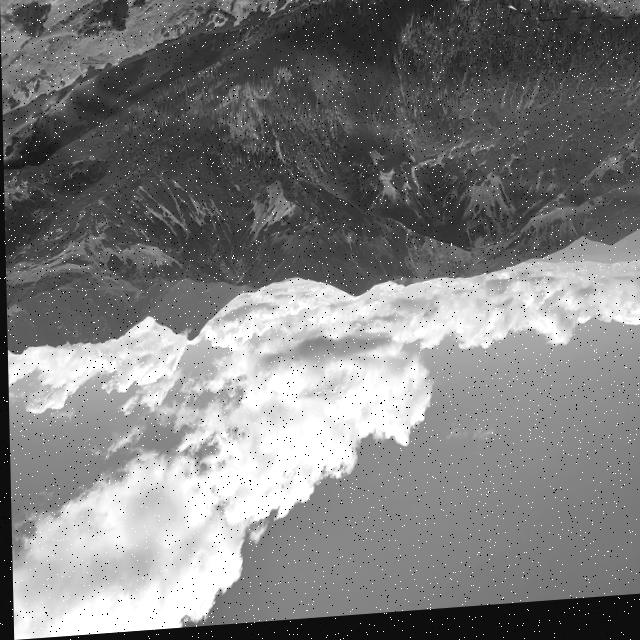Hruby vrch: (7, 324, 32, 384)
Krivan: (124, 276, 264, 396)
Velka kopa: (297, 250, 416, 336)
